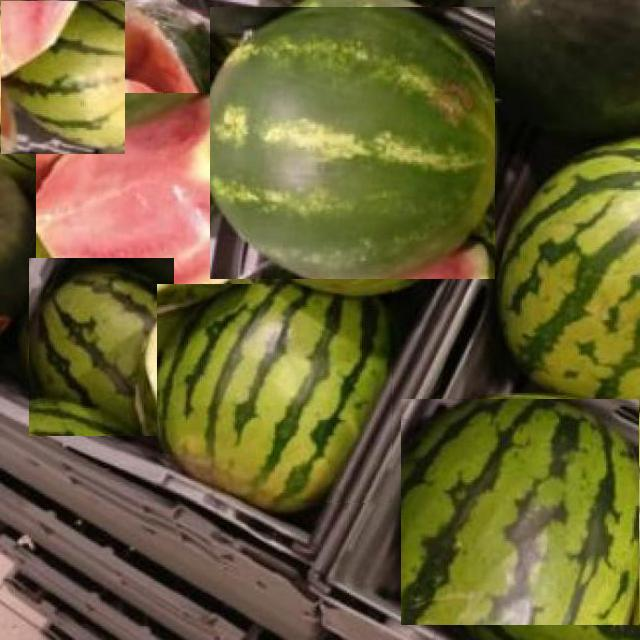Watermelon: (211, 6, 495, 279), (400, 400, 640, 625), (158, 284, 392, 503), (36, 92, 255, 301), (503, 129, 639, 413), (29, 259, 174, 436), (0, 0, 125, 154)
